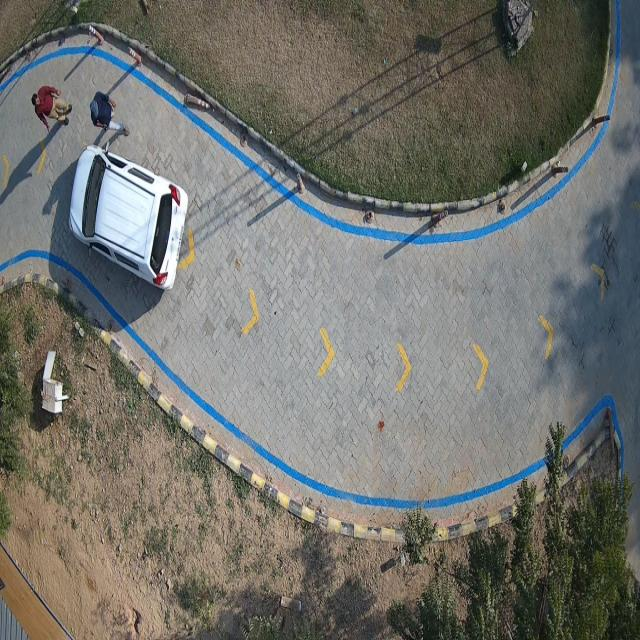car: (69, 147, 188, 289)
